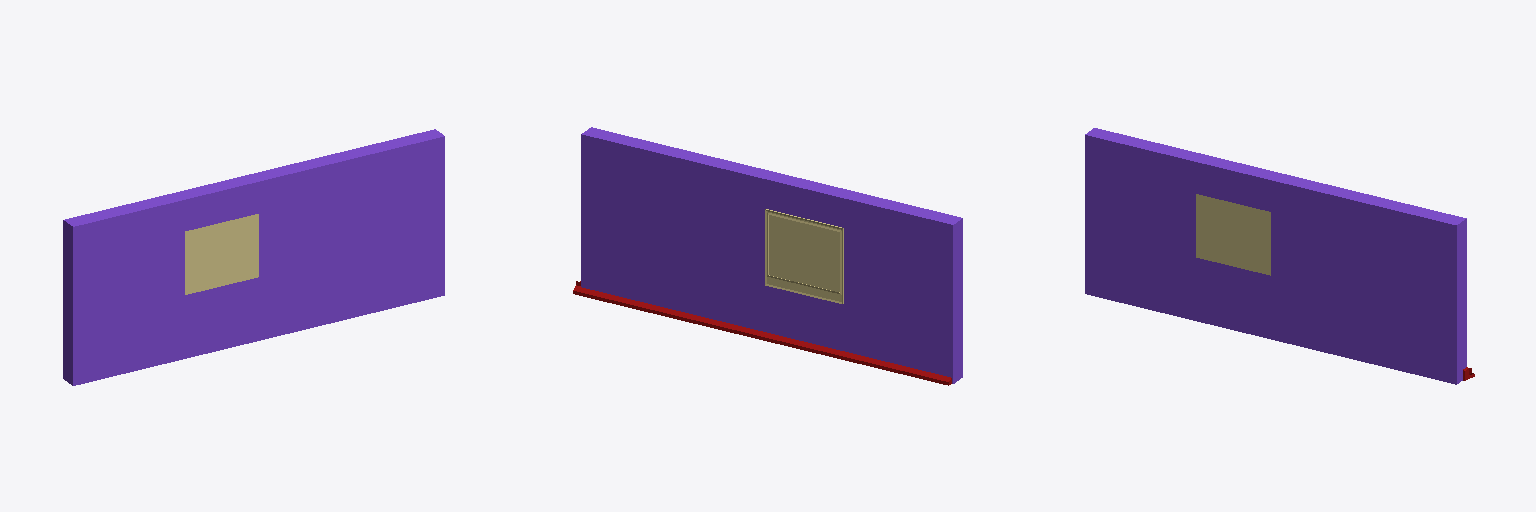
The model's file is wall_window.obj.
The picture shows the model from 3 angles: view 1: azimuth 30°, elevation 25°; view 2: azimuth 150°, elevation 25°; view 3: azimuth 330°, elevation 25°; orthographic projection.
Parts seen in each view (by area): view 1: Window_Wall, Window_Border; view 2: Window_Wall, Window_Border, Floor_Border_Window; view 3: Window_Wall, Window_Border.
Part boxes in pixels (bbox=[...]): Window_Wall: bbox=[63, 129, 444, 385]; Window_Border: bbox=[185, 214, 258, 294]; Window_Wall: bbox=[581, 127, 962, 383]; Window_Border: bbox=[765, 209, 843, 303]; Floor_Border_Window: bbox=[573, 281, 951, 385]; Window_Wall: bbox=[1085, 128, 1466, 384]; Window_Border: bbox=[1196, 194, 1270, 275].
Size of the model in its own units: 92.26 by 37.16 by 5.24.